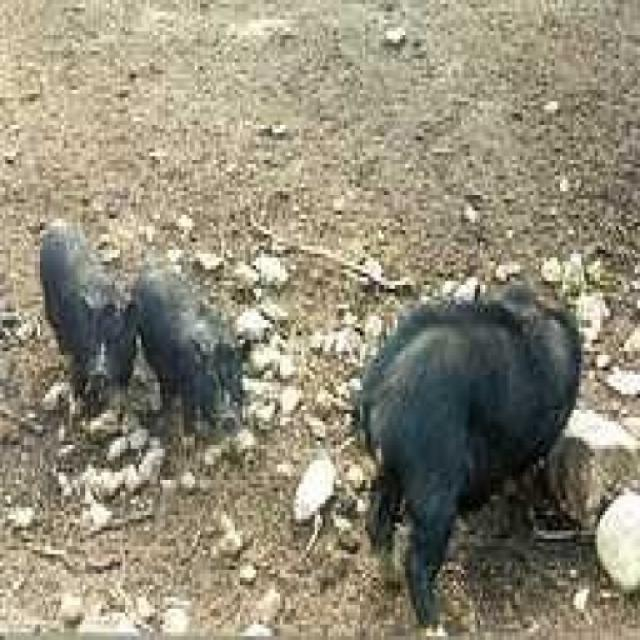pig: (337, 208, 606, 640), (122, 246, 299, 473), (29, 216, 148, 447)
